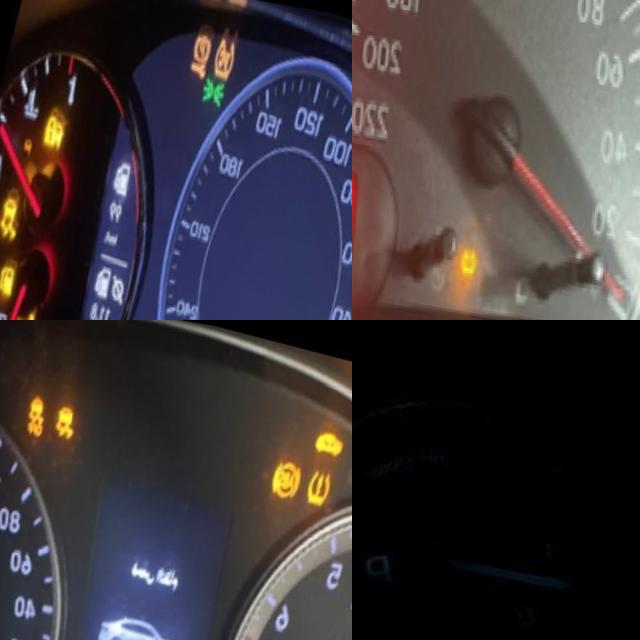Low fuel level: (0, 255, 26, 300)
security: (308, 404, 352, 449), (42, 106, 73, 152)
